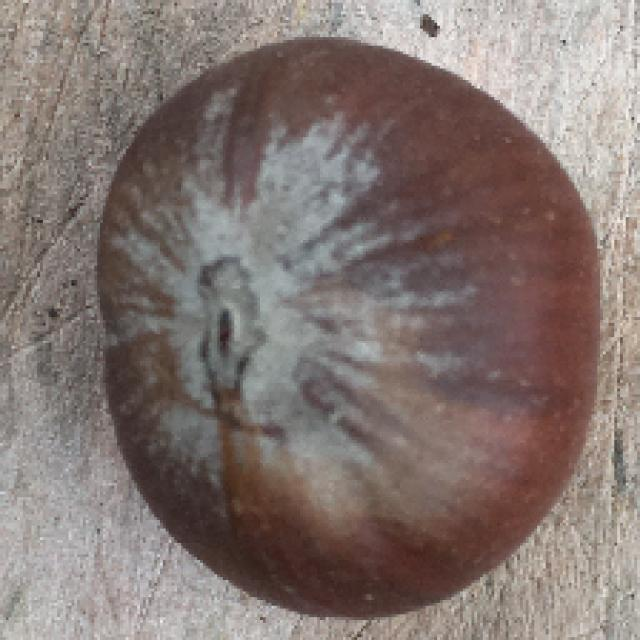damagedHazelnut: (93, 36, 603, 624)
